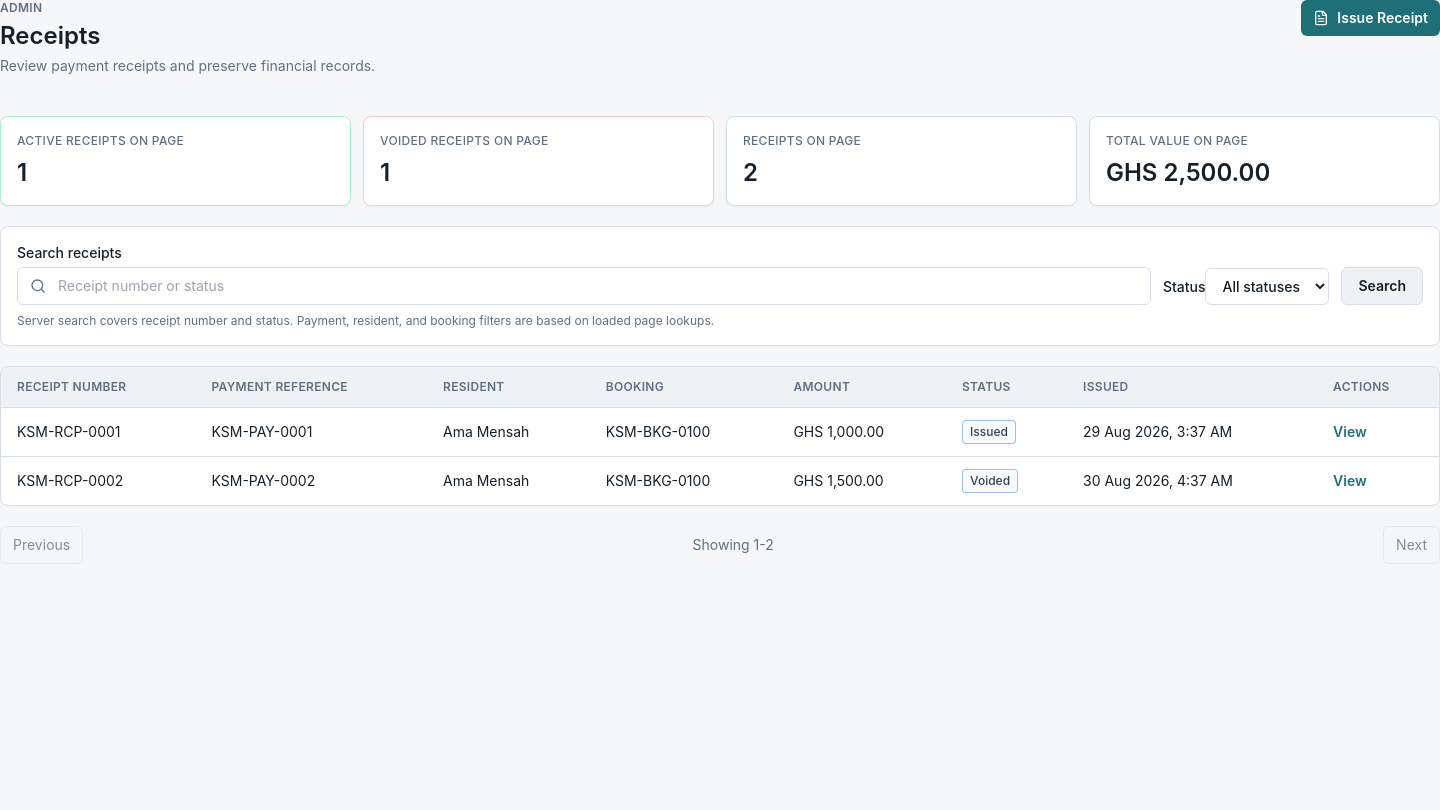
Test case: ReceiptsPage › renders receipt detail with payment, resident, booking, and printable data
Expected: the text "KSM-RCP-0001" is shown, [1,408,196,456]
Click the button "View" in the row of "KSM-RCP-0001": (1350, 432) [1333,422,1367,442]
(page scrolled)
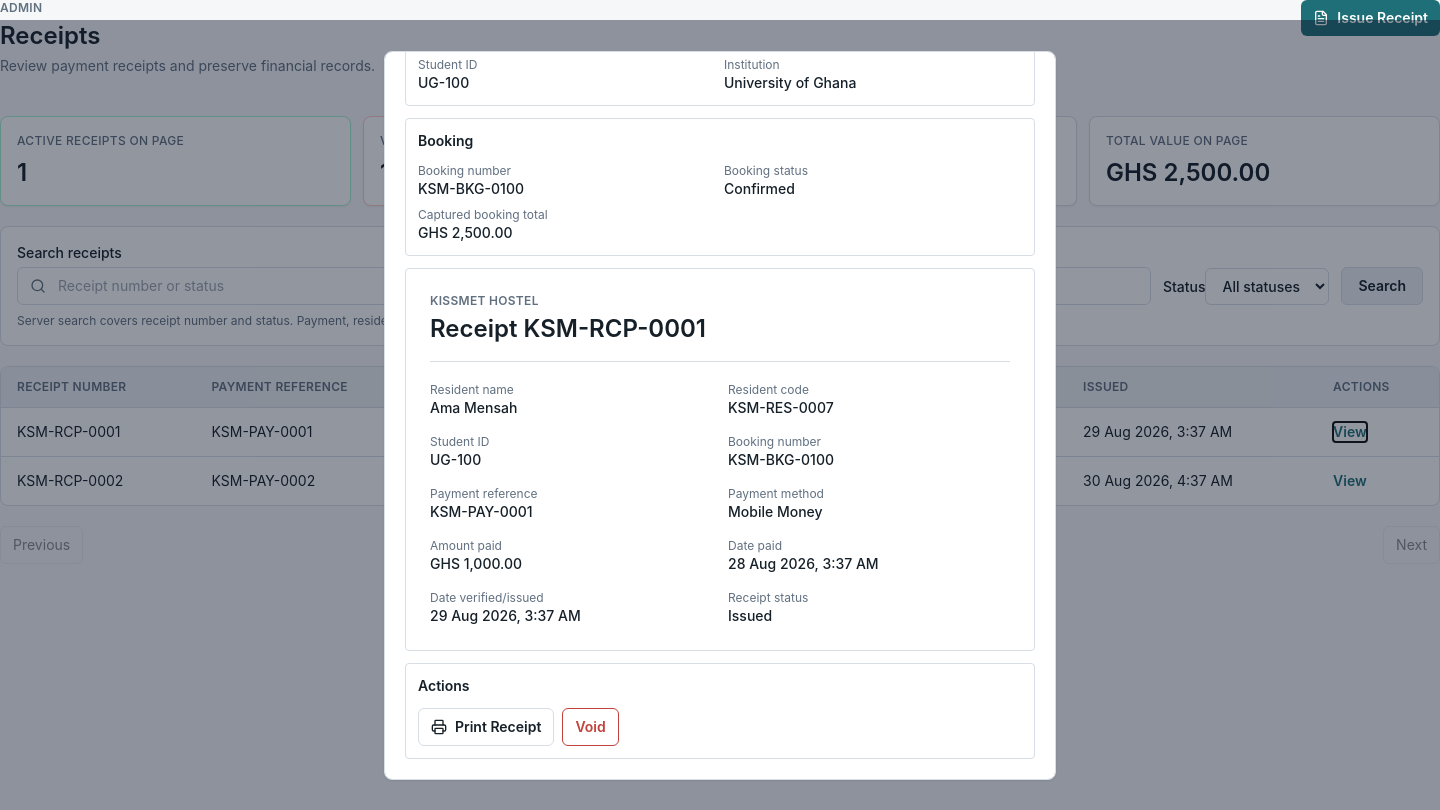
Expected: the text "University of Ghana" is shown, [724,74,856,90]
Expected: the text "Date verified/issued" is shown, [430,590,544,604]
